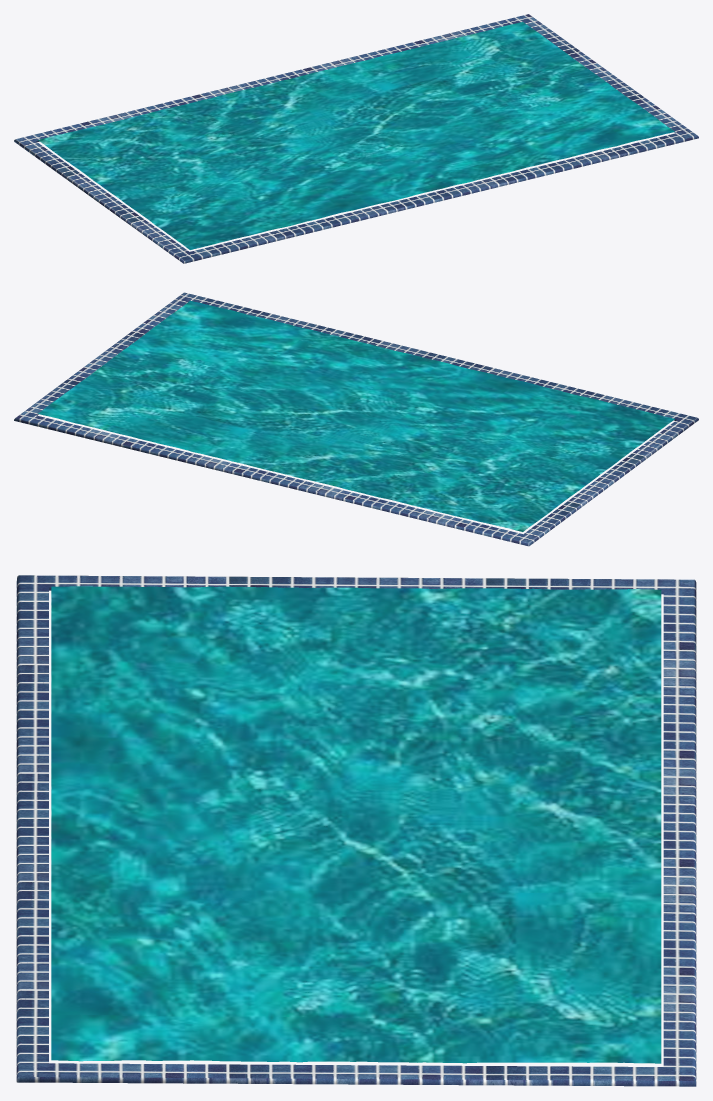
The model's file is pool.obj.
The picture shows the model from 3 angles, top to bottom: view 1: azimuth 30°, elevation 25°; view 2: azimuth 150°, elevation 25°; view 3: azimuth 270°, elevation 25°; orthographic projection. The views are drawn at different scales.
Parts seen in each view (by area): view 1: SWIMMING_POOL_WATER; view 2: SWIMMING_POOL_WATER; view 3: SWIMMING_POOL_WATER.
Part boxes in pixels (x1,y1,x2,y2): SWIMMING_POOL_WATER: [14, 14, 698, 263]; SWIMMING_POOL_WATER: [14, 292, 698, 546]; SWIMMING_POOL_WATER: [16, 575, 696, 1086].
Size of the model in its own units: 92.66 by 1.14 by 52.93.
2 materials, 2 textured.
